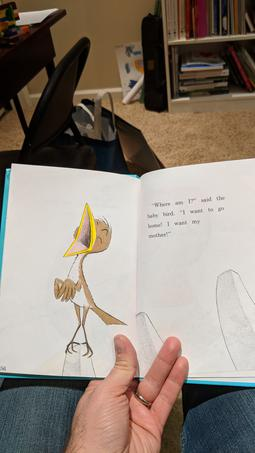text block: (145, 189, 228, 241)
